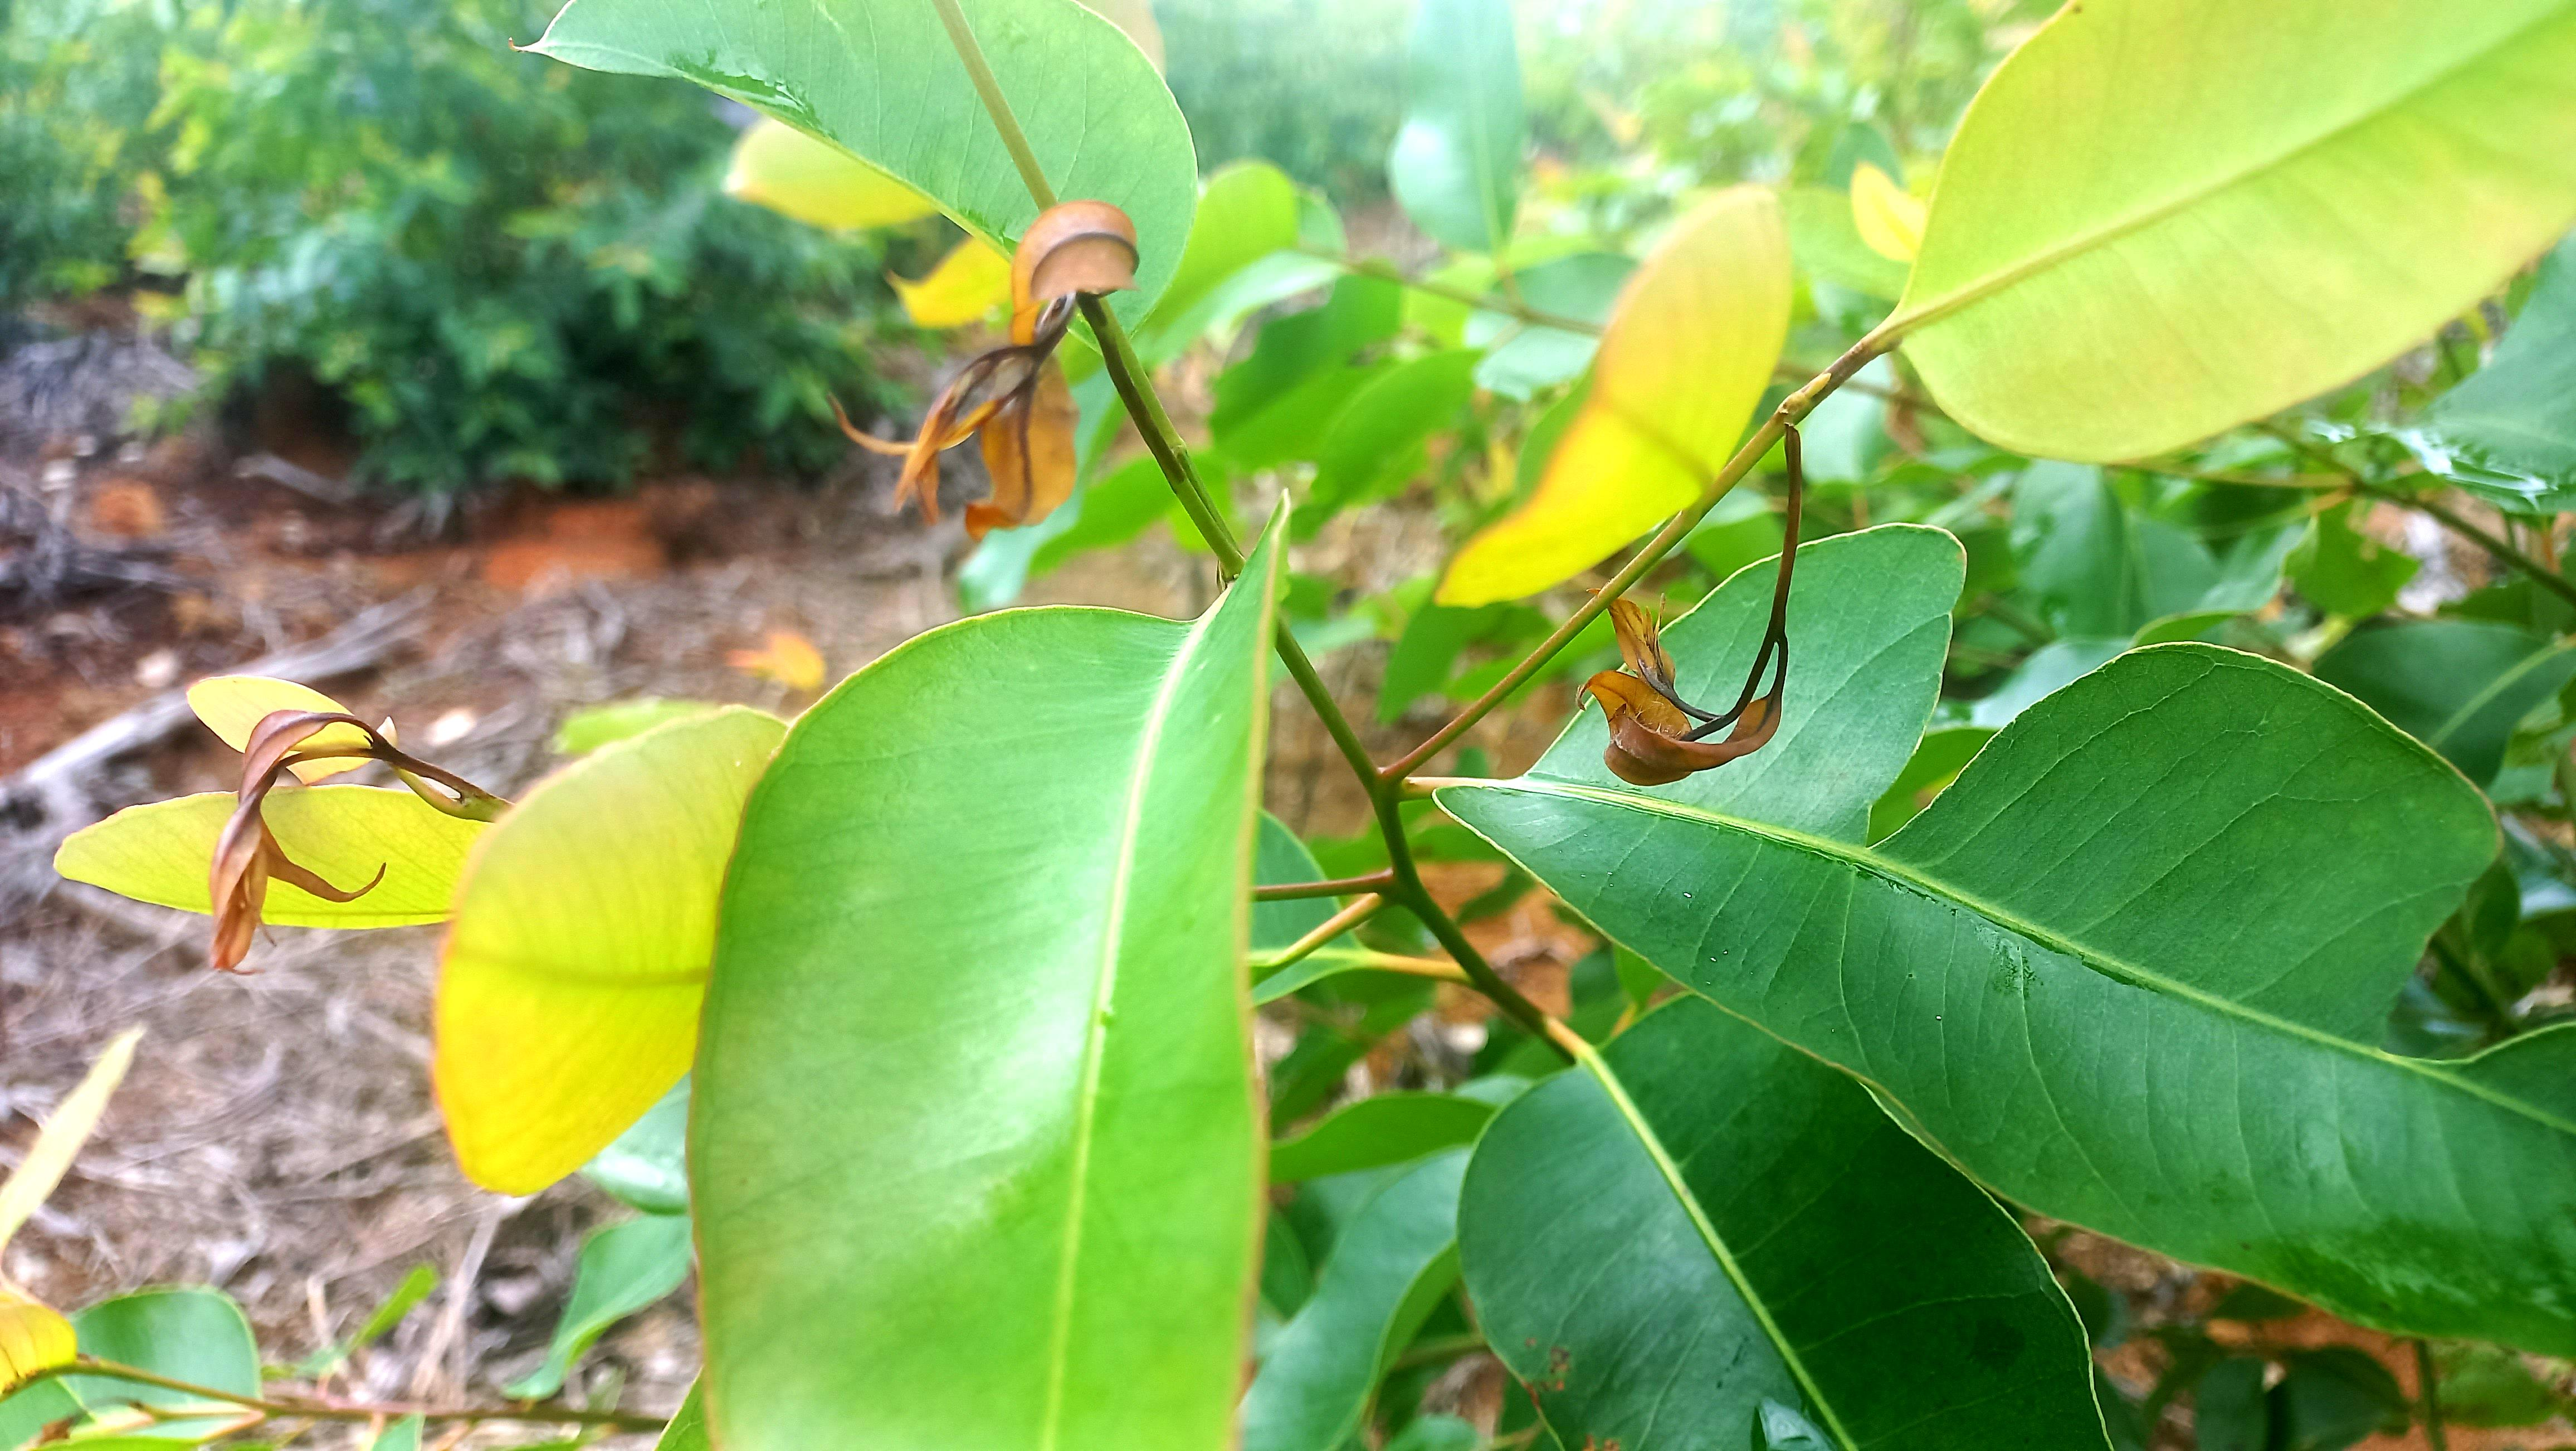Helopeltis-Withered Sprout: (207, 711, 402, 979), (961, 349, 1077, 538), (1585, 699, 1798, 789), (830, 379, 1033, 451), (1017, 203, 1139, 320), (1576, 665, 1697, 740), (1596, 586, 1677, 690)
